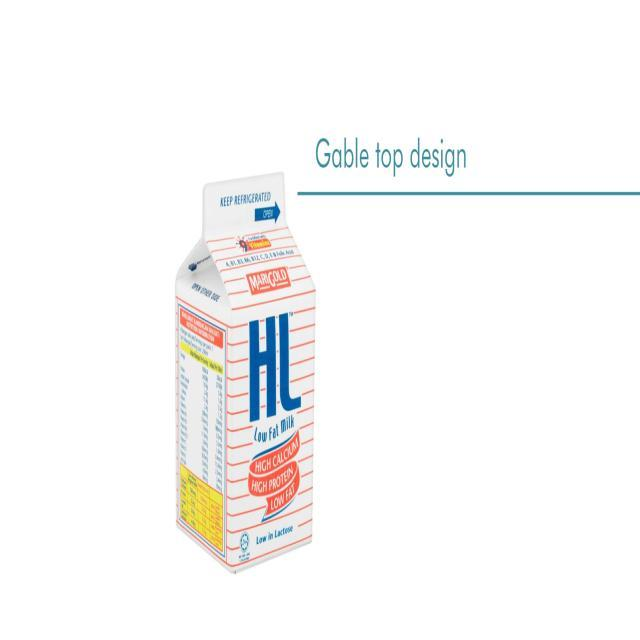Carton: (152, 117, 322, 580)
